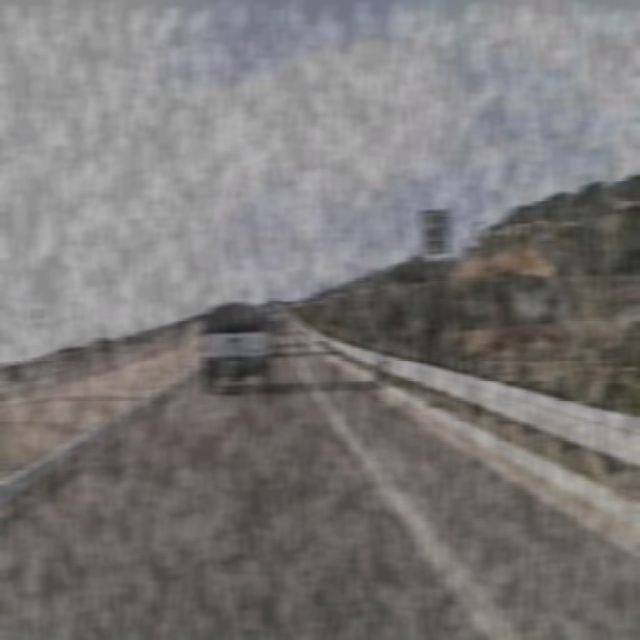doNotPass: (418, 208, 449, 257)
